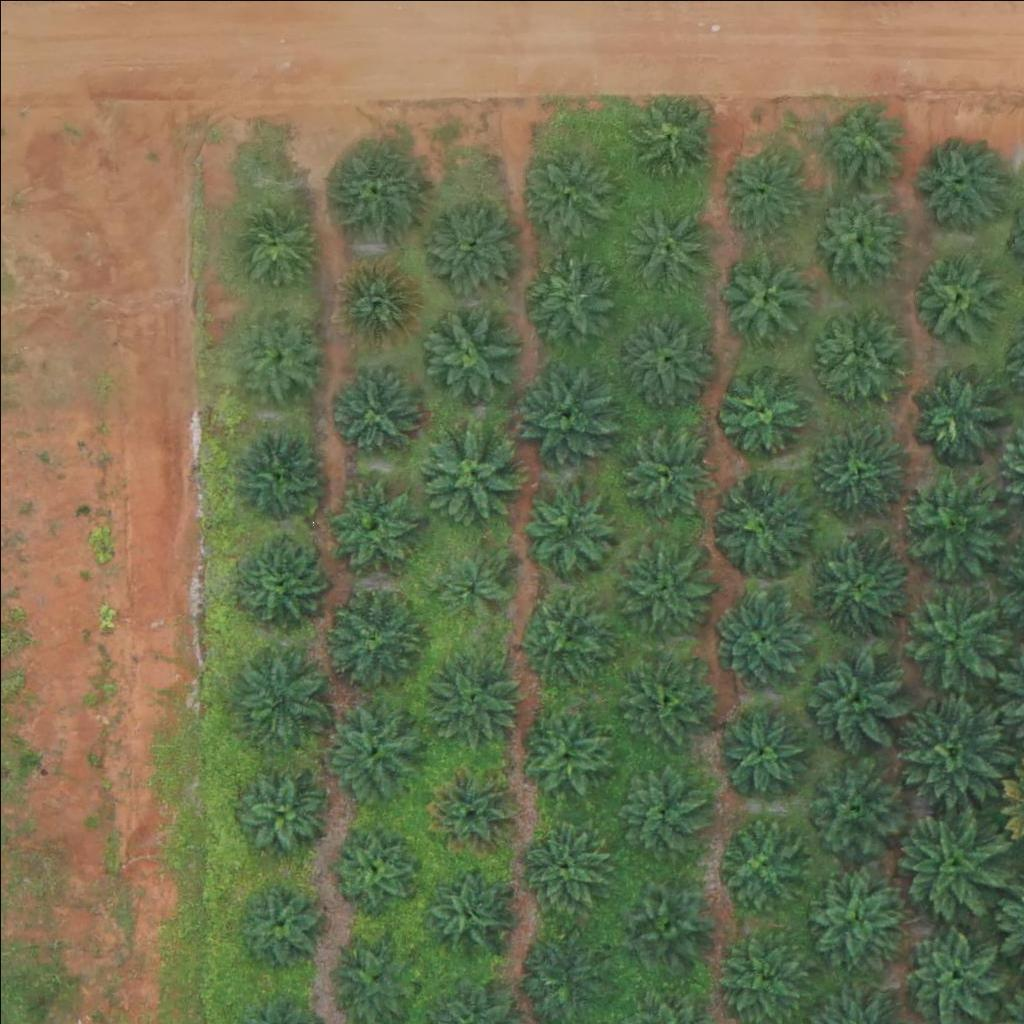Kelapa_Sawit: (895, 575, 1008, 688), (890, 806, 1002, 919), (897, 693, 1009, 806), (902, 922, 1002, 1023), (415, 420, 515, 521), (515, 700, 615, 801), (514, 584, 614, 685), (516, 360, 616, 461), (609, 764, 709, 865), (612, 647, 712, 748), (613, 538, 713, 639), (614, 421, 714, 522), (616, 305, 716, 406), (713, 587, 813, 688), (708, 474, 808, 575), (803, 756, 903, 857), (805, 647, 905, 748), (807, 531, 907, 632), (805, 421, 905, 522), (897, 477, 997, 578), (519, 147, 619, 248), (417, 299, 517, 400), (419, 195, 519, 296), (320, 141, 420, 242), (230, 651, 330, 751), (325, 699, 425, 799), (323, 585, 423, 685), (420, 647, 520, 747), (908, 366, 1008, 466), (905, 134, 1005, 234), (803, 188, 903, 288), (618, 877, 706, 965), (233, 878, 321, 966), (232, 768, 320, 856), (325, 481, 413, 569), (331, 371, 419, 459), (518, 821, 606, 909), (718, 363, 806, 451), (718, 250, 806, 338), (716, 144, 804, 232), (620, 204, 708, 292), (623, 94, 711, 182), (331, 260, 419, 348), (226, 197, 314, 285), (810, 871, 897, 959), (423, 864, 510, 952), (233, 531, 320, 619), (232, 434, 319, 522), (233, 308, 320, 396), (331, 825, 418, 913), (427, 767, 514, 855), (524, 485, 611, 573), (719, 818, 806, 906), (716, 703, 803, 791), (813, 304, 900, 392), (910, 254, 997, 342), (816, 97, 903, 185), (517, 257, 604, 345), (433, 543, 508, 619)
